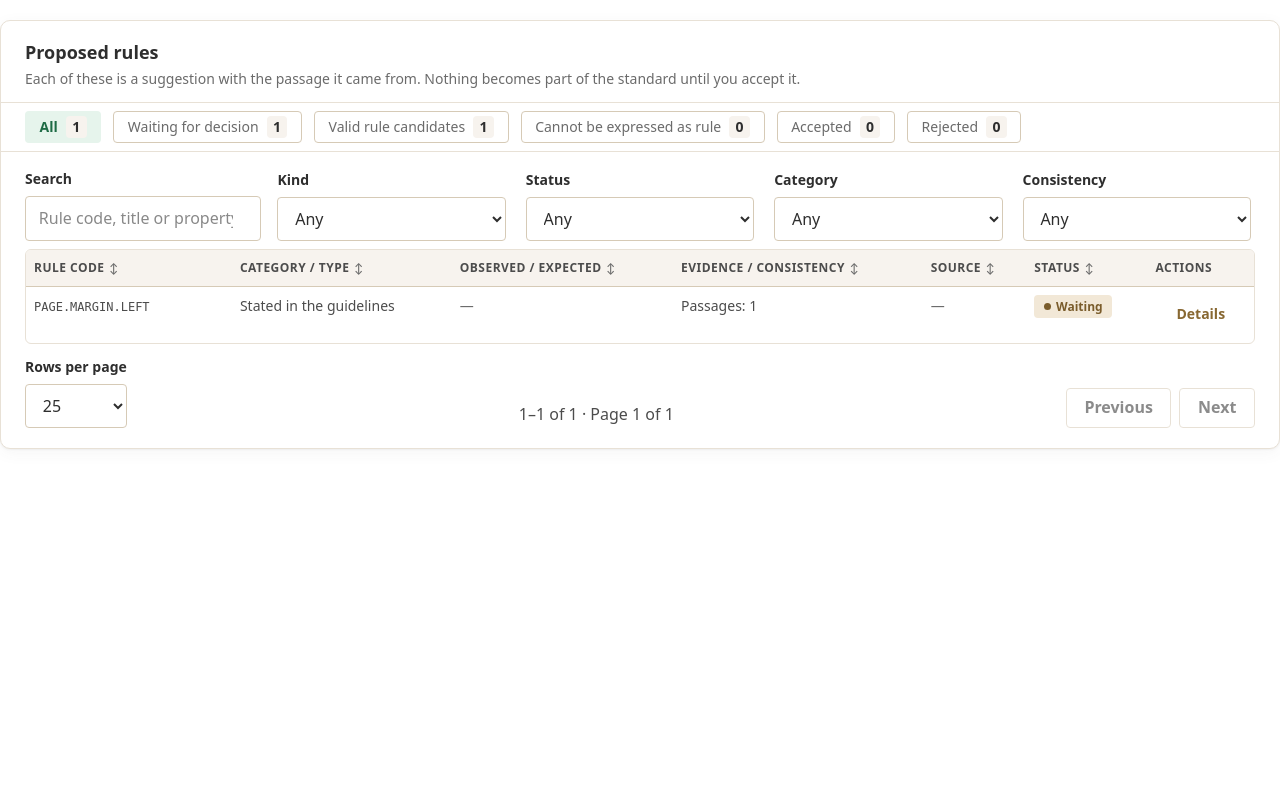
Test: the proposal review screen › shows a reader without the decide permission no decision controls
Click the button "Details".
click(1201, 315)  # box [1156, 295, 1246, 335]
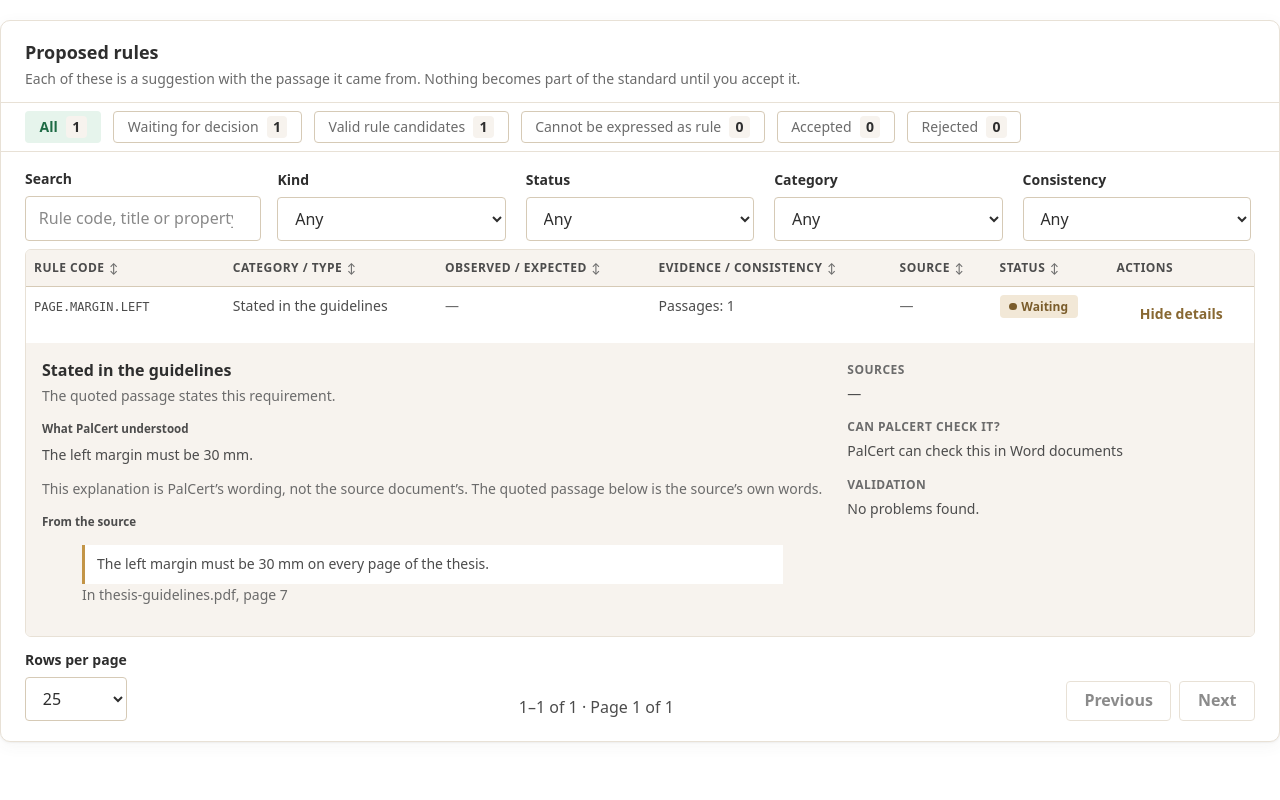
Expected: the heading "What PalCert understood" is shown, [42, 421, 189, 436]
